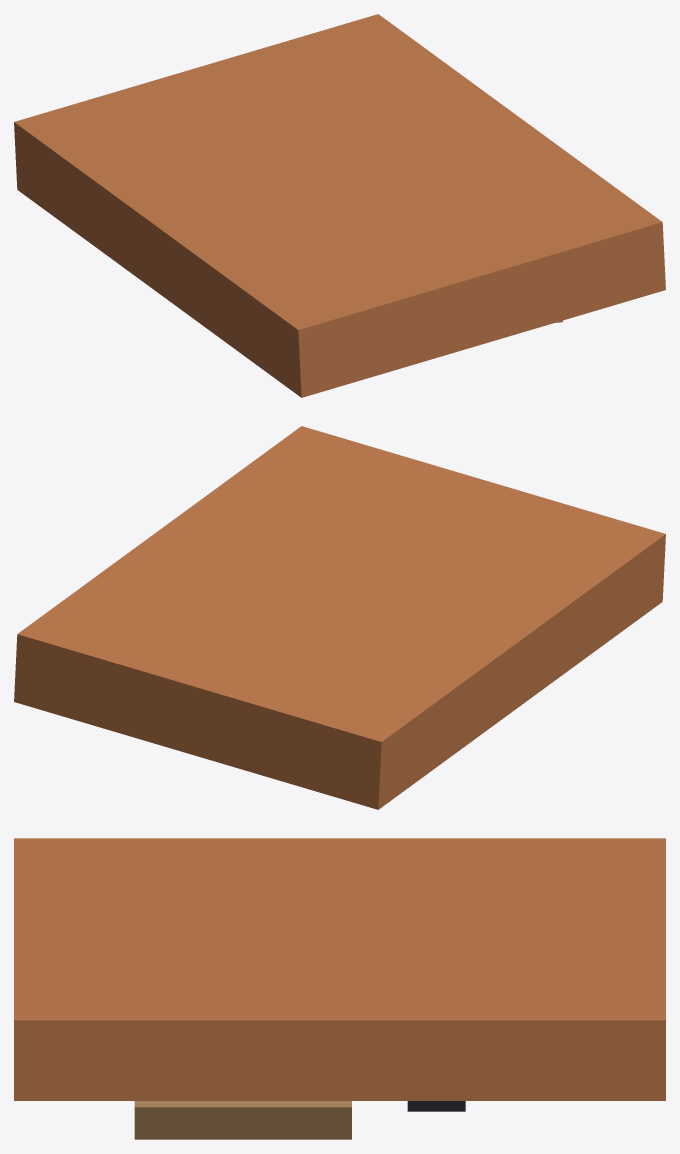
The model's file is junk_riot_shield.glb.
3 views of the same model, one above another, from view 1: azimuth 30°, elevation 25°; view 2: azimuth 150°, elevation 25°; view 3: azimuth 270°, elevation 25° (orthographic). The views are drawn at different scales.
Parts seen in each view (by area): view 1: shield; view 2: shield; view 3: shield, patch, handle.
Boxes of the visible parts, left/top/right/bottom form: shield: left=14, top=14, right=665, bottom=397; shield: left=14, top=426, right=665, bottom=809; shield: left=14, top=838, right=665, bottom=1100; patch: left=134, top=1101, right=351, bottom=1139; handle: left=407, top=1101, right=465, bottom=1111.
Size of the model in its own units: 1.01 by 0.3349 by 1.35.
